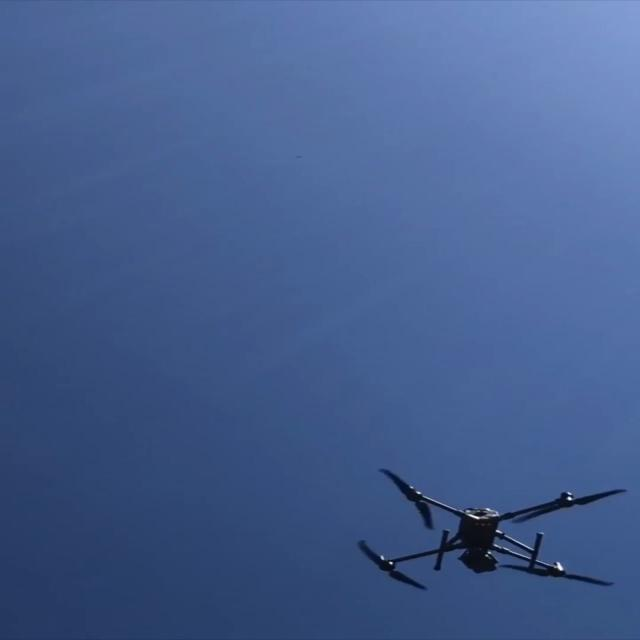drone: (356, 467, 626, 590)
